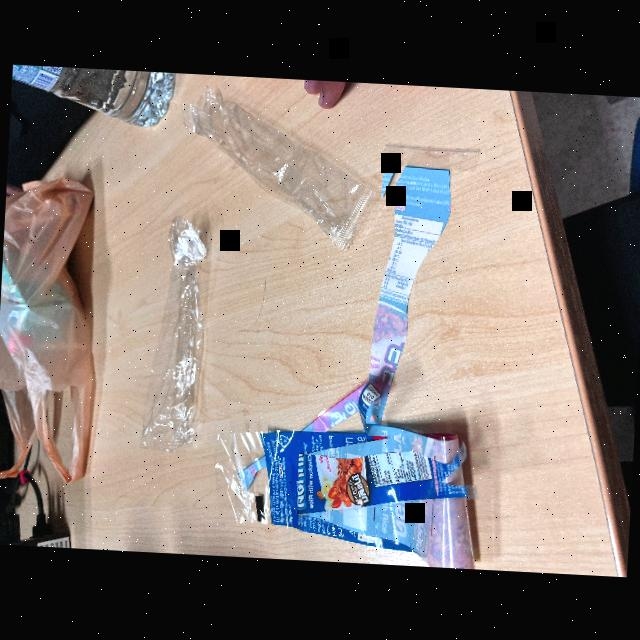scrap_plastic: (226, 350, 512, 570), (118, 209, 229, 472), (200, 80, 374, 244)
